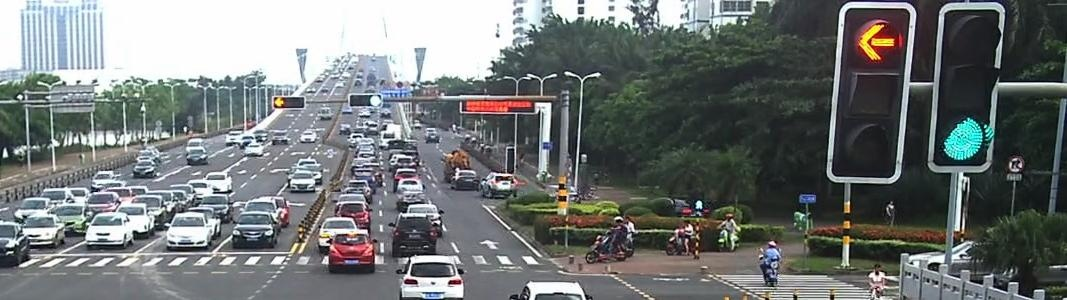green: (938, 114, 987, 163), (367, 94, 381, 106), (693, 197, 704, 211)
redleft: (857, 20, 901, 64), (271, 95, 285, 109)
